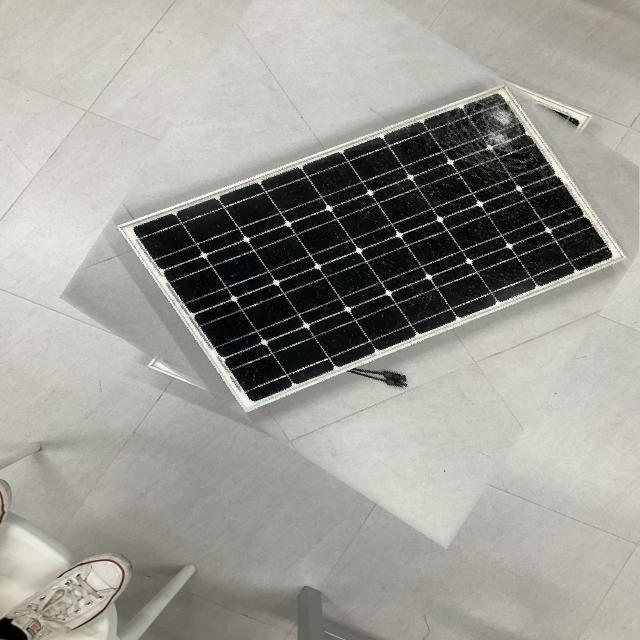Photovoltaic-Panel: (95, 42, 638, 426)
